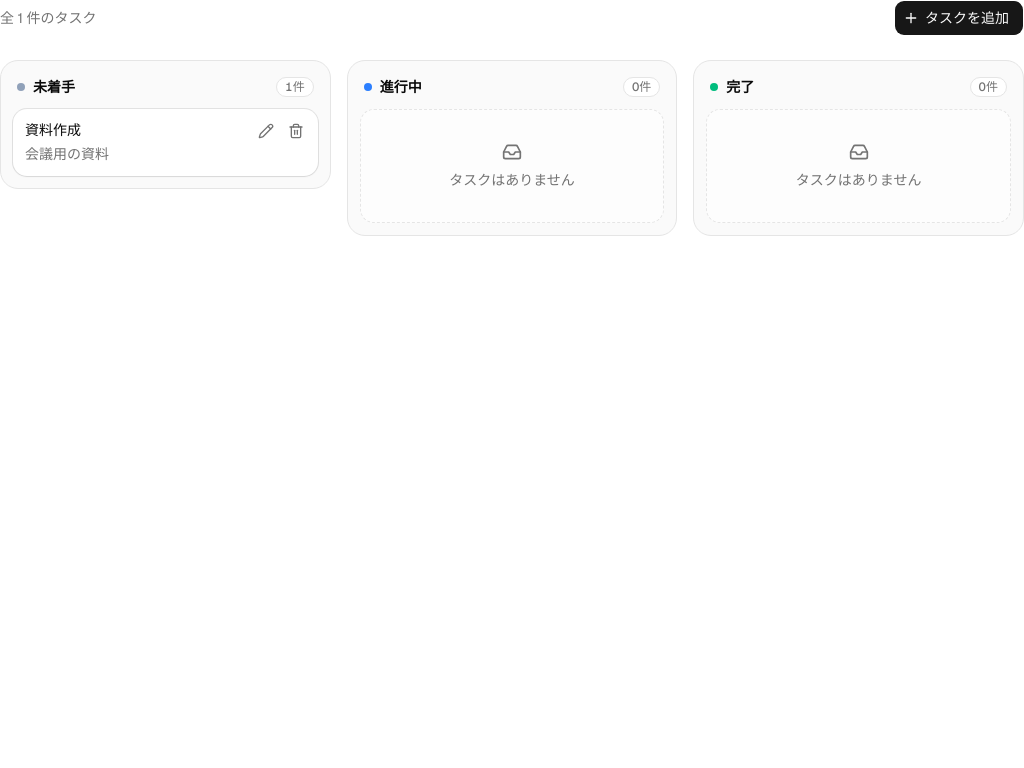
Test: KanbanBoard › 削除 › 削除に失敗した場合、エラーを表示し、タスクを残す
Later steps or results of the test are not shown.
Step 1. Click the button named "「資料作成」を削除" → coordinates (296, 131), box [282, 117, 310, 145]
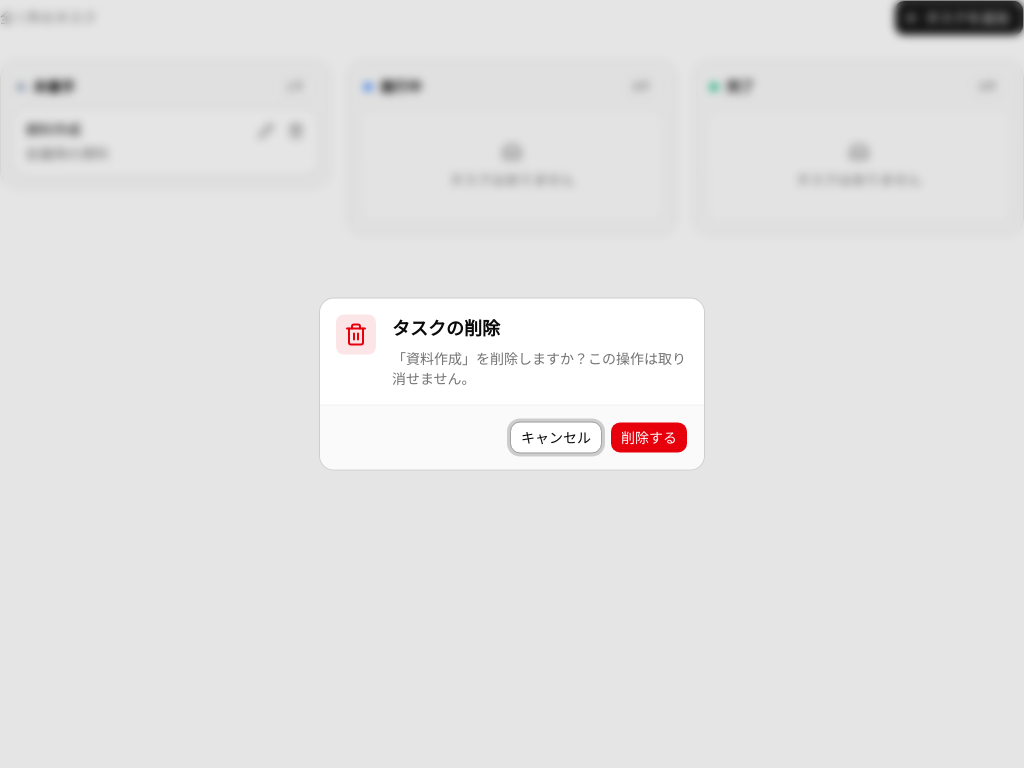
Step 2. Click the button "削除する" → coordinates (649, 438), box [610, 422, 688, 454]
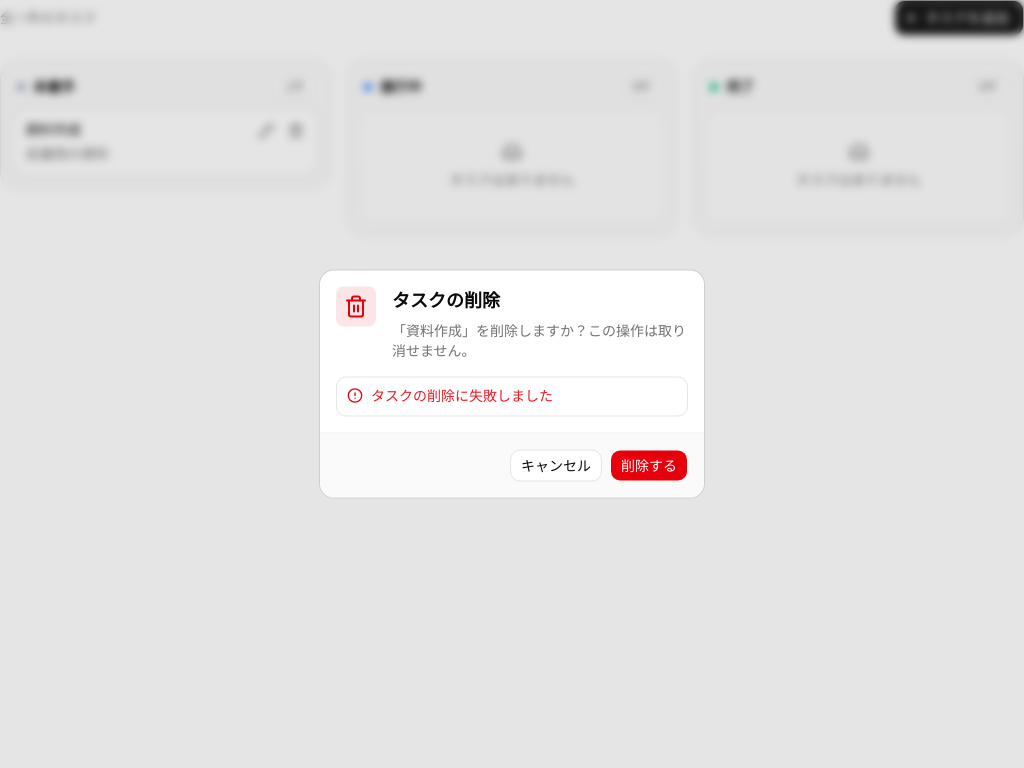
Now the message reads "タスクの削除に失敗しました", box [371, 386, 553, 404]
